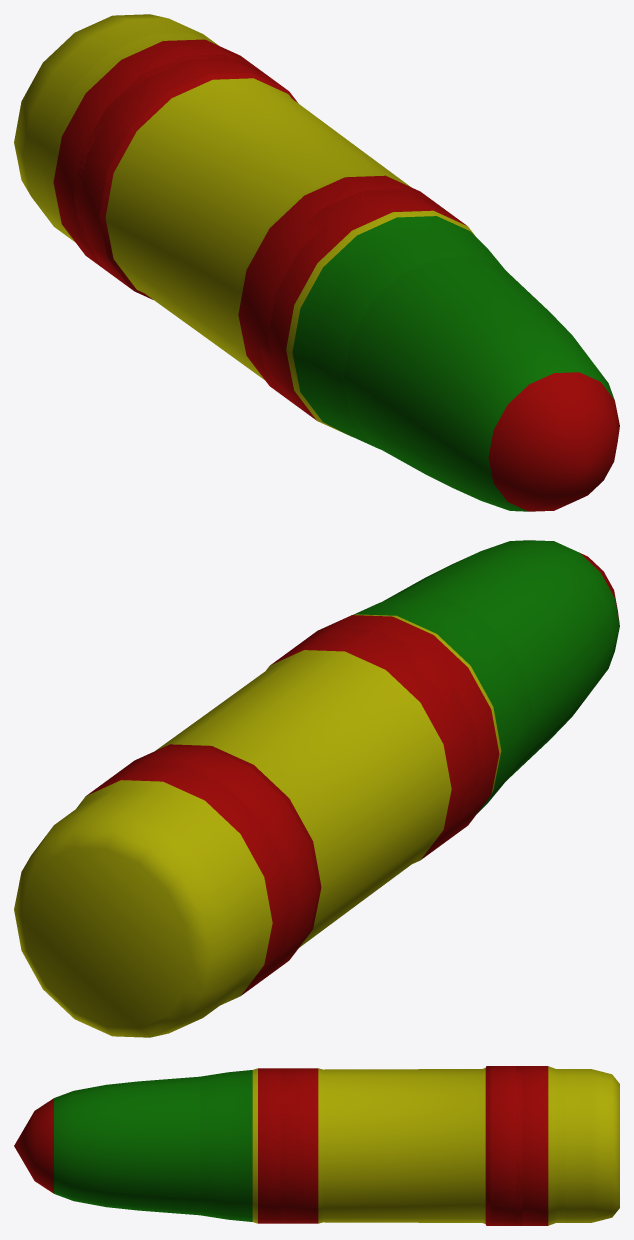
Rendered from Projectile.fbx.
3 views of the same model, one above another, from view 1: azimuth 30°, elevation 25°; view 2: azimuth 150°, elevation 25°; view 3: azimuth 270°, elevation 25° (orthographic). The views are drawn at different scales.
Visible parts, largest first — view 1: Cylinder, Cylinder.001, Cylinder.002; view 2: Cylinder.001, Cylinder, Cylinder.002; view 3: Cylinder, Cylinder.001, Cylinder.002.
Part boxes in pixels (bbox=[...]): Cylinder: bbox=[43, 33, 619, 511]; Cylinder.001: bbox=[14, 14, 504, 449]; Cylinder.002: bbox=[77, 56, 298, 299]; Cylinder.001: bbox=[14, 594, 533, 1037]; Cylinder: bbox=[80, 540, 619, 980]; Cylinder.002: bbox=[127, 744, 321, 978]; Cylinder: bbox=[14, 1066, 565, 1225]; Cylinder.001: bbox=[200, 1066, 619, 1225]; Cylinder.002: bbox=[485, 1066, 518, 1225].
Bounding box in the file's own units: 82.28 × 82.28 × 312.
